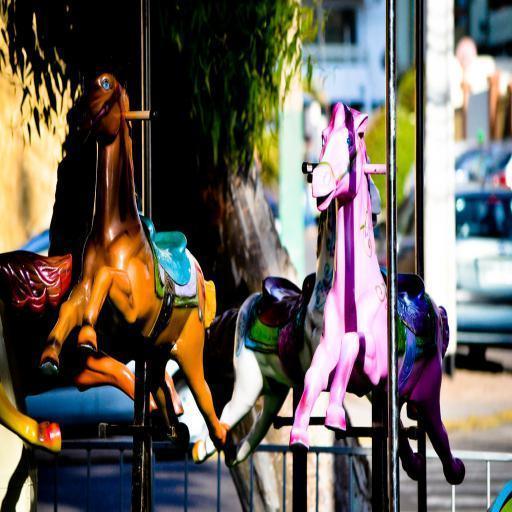horse: (39, 70, 234, 456), (288, 102, 468, 486), (194, 150, 382, 462), (0, 253, 72, 456)
